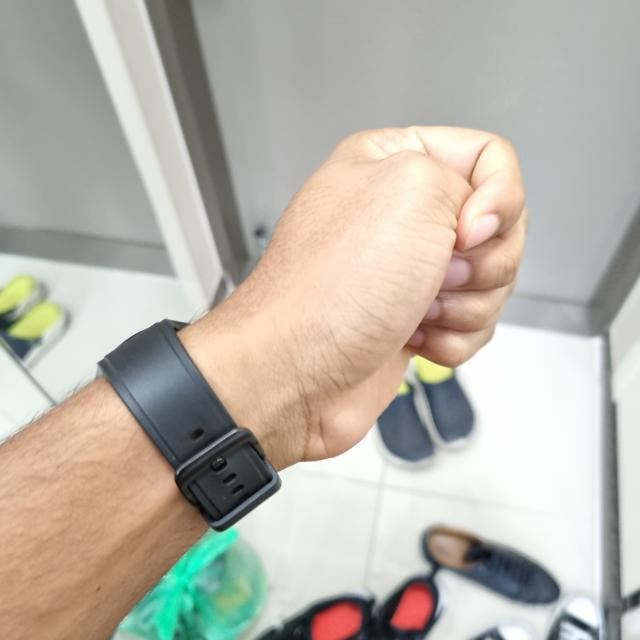Rock: (183, 127, 526, 464)
